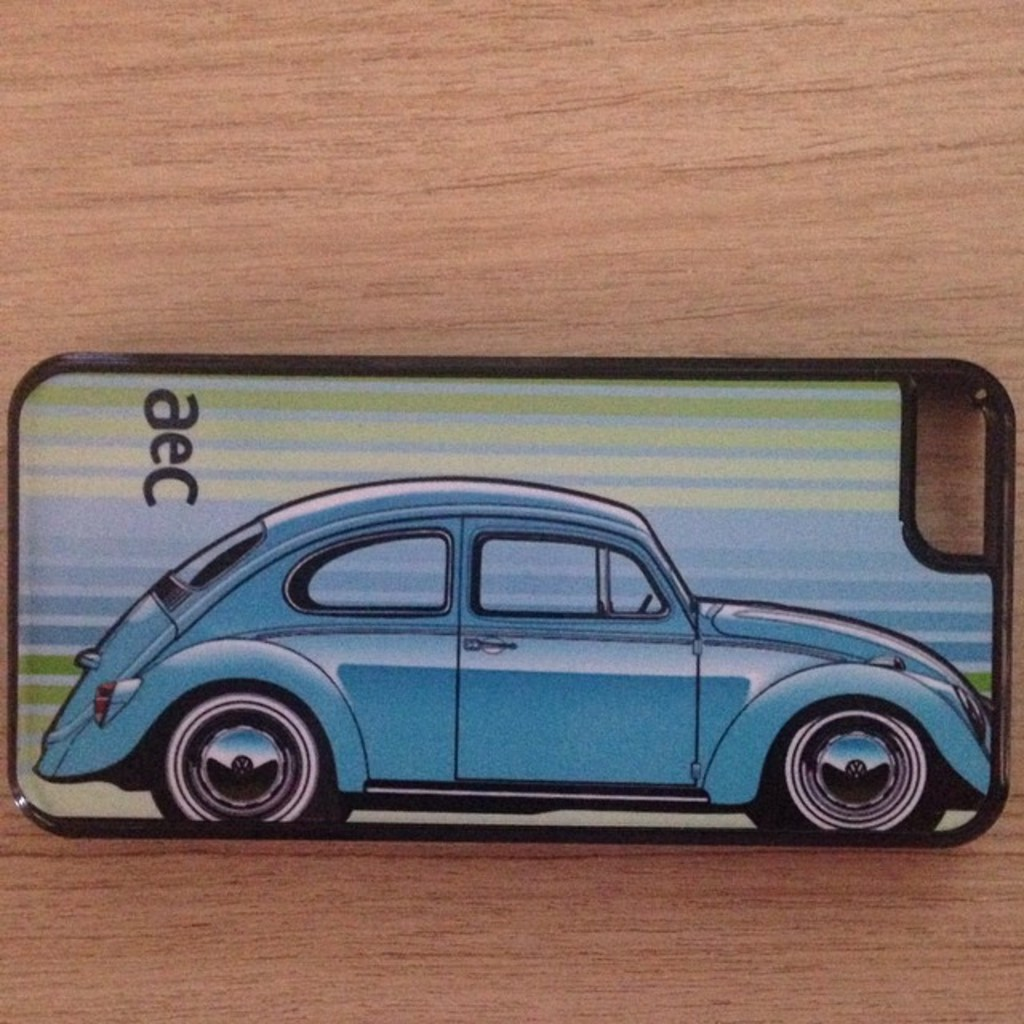Car: (0, 476, 1024, 857)
